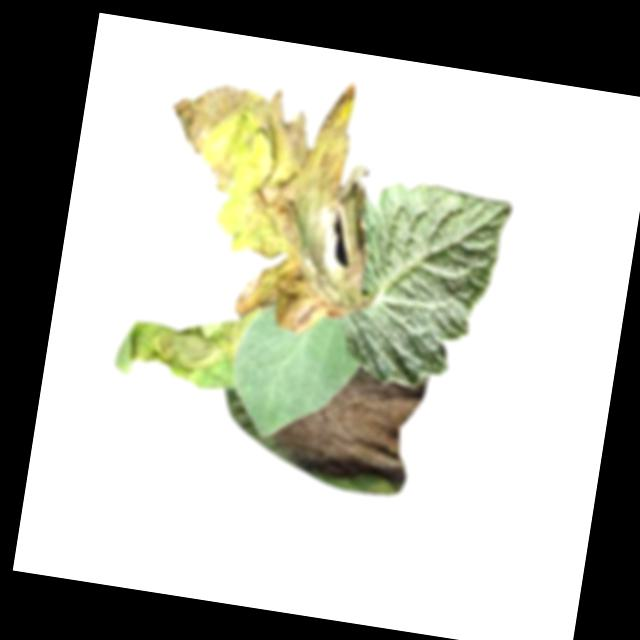Late_blight: (141, 56, 396, 342), (265, 354, 431, 491), (111, 287, 260, 397)
healthy: (336, 174, 515, 395), (225, 306, 367, 448)
